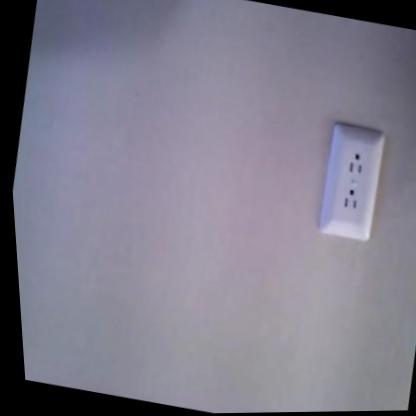OUTLET: (315, 127, 389, 241)
